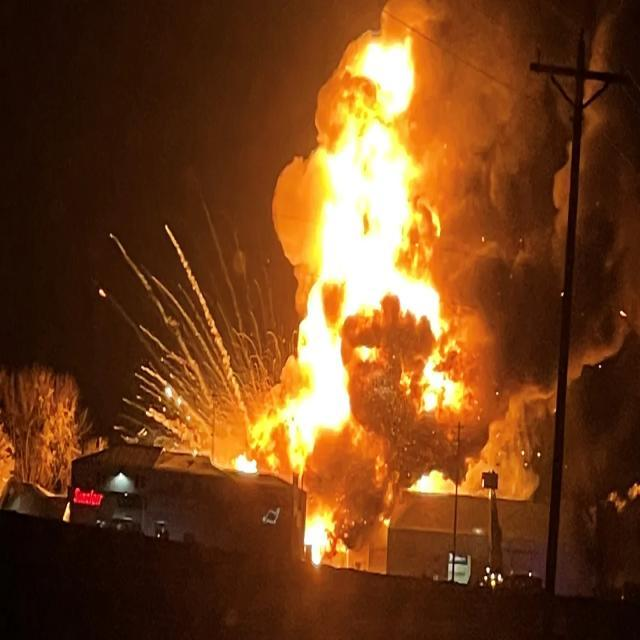fire: (240, 13, 460, 570)
